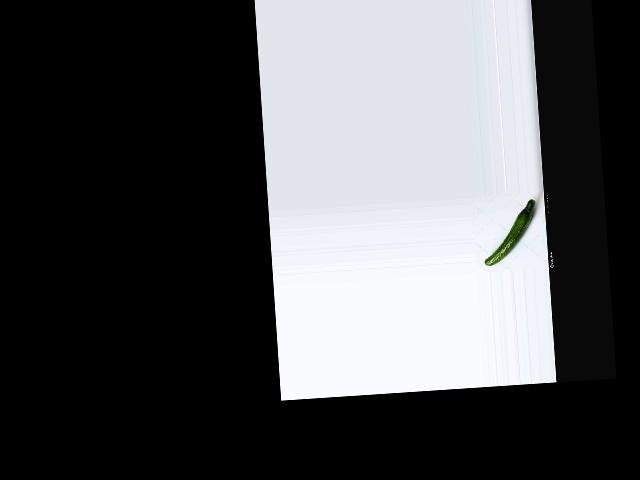cucumber: (480, 198, 539, 265)
